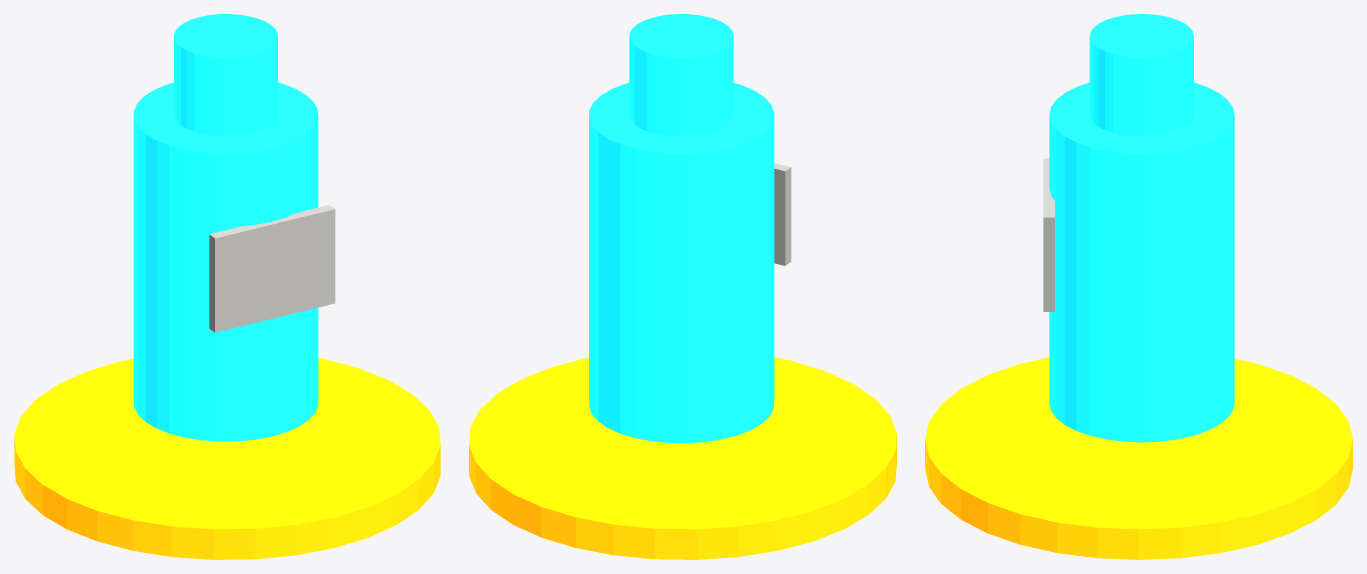
Rendered from fitness_water_bottle.glb.
3 views of the same model, side by side, from view 1: azimuth 30°, elevation 25°; view 2: azimuth 150°, elevation 25°; view 3: azimuth 270°, elevation 25° (orthographic).
Visible parts, largest first — view 1: 02_10_Popular_Fitness_Water_Bottle_ROOT_base, 02_10_Popular_Fitness_Water_Bottle_part_01, 02_10_Popular_Fitness_Water_Bottle_part_03, 02_10_Popular_Fitness_Water_Bottle_part_02; view 2: 02_10_Popular_Fitness_Water_Bottle_part_01, 02_10_Popular_Fitness_Water_Bottle_ROOT_base, 02_10_Popular_Fitness_Water_Bottle_part_02, 02_10_Popular_Fitness_Water_Bottle_part_03; view 3: 02_10_Popular_Fitness_Water_Bottle_part_01, 02_10_Popular_Fitness_Water_Bottle_ROOT_base, 02_10_Popular_Fitness_Water_Bottle_part_02, 02_10_Popular_Fitness_Water_Bottle_part_03.
Boxes of the visible parts, bbox=[...] form: 02_10_Popular_Fitness_Water_Bottle_ROOT_base: bbox=[14, 358, 440, 559]; 02_10_Popular_Fitness_Water_Bottle_part_01: bbox=[133, 82, 318, 441]; 02_10_Popular_Fitness_Water_Bottle_part_03: bbox=[209, 205, 335, 332]; 02_10_Popular_Fitness_Water_Bottle_part_02: bbox=[174, 14, 277, 136]; 02_10_Popular_Fitness_Water_Bottle_part_01: bbox=[589, 83, 774, 443]; 02_10_Popular_Fitness_Water_Bottle_ROOT_base: bbox=[469, 357, 896, 559]; 02_10_Popular_Fitness_Water_Bottle_part_02: bbox=[629, 14, 733, 136]; 02_10_Popular_Fitness_Water_Bottle_part_03: bbox=[774, 163, 791, 265]; 02_10_Popular_Fitness_Water_Bottle_part_01: bbox=[1049, 82, 1234, 442]; 02_10_Popular_Fitness_Water_Bottle_ROOT_base: bbox=[925, 357, 1352, 559]; 02_10_Popular_Fitness_Water_Bottle_part_02: bbox=[1089, 14, 1193, 136]; 02_10_Popular_Fitness_Water_Bottle_part_03: bbox=[1043, 158, 1054, 311].
Size of the model in its own units: 0.76 by 0.85 by 0.76.
